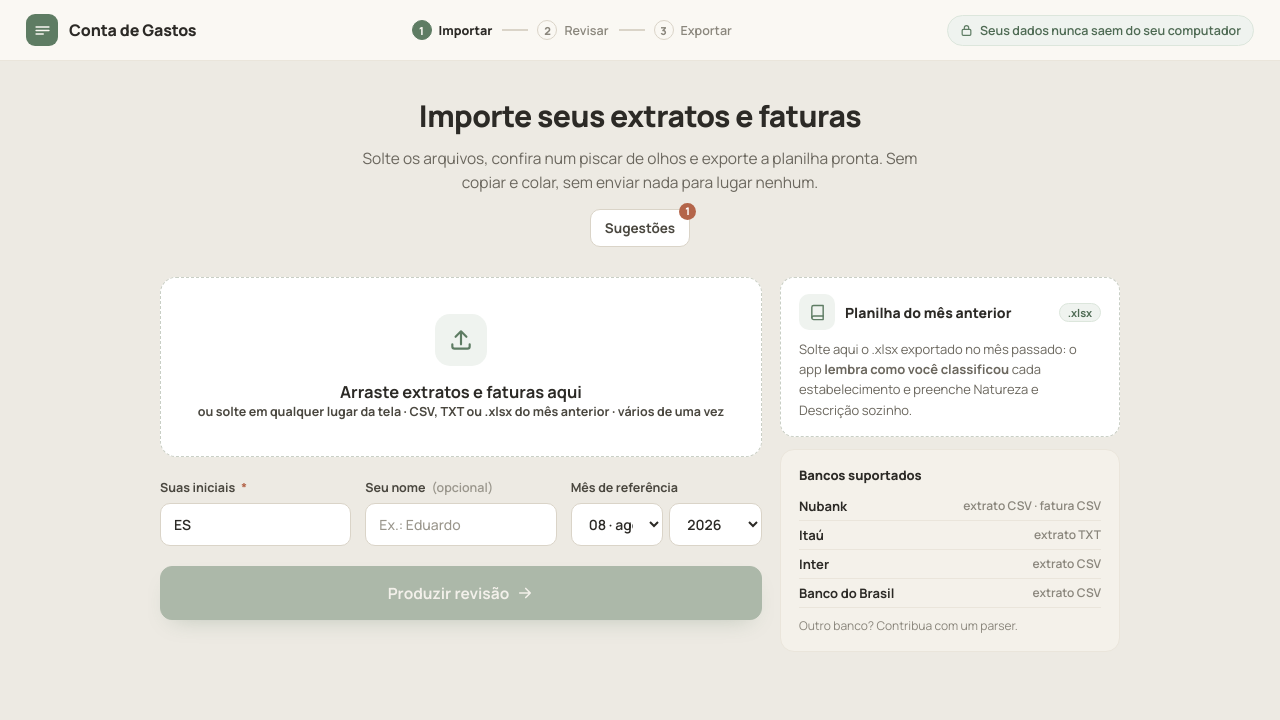
it: App — canal único de avisos: sheet nas 2 telas, footer aposentado (T9, D18) › CentralDeAvisos (sheet) é renderizado também na tela de importação (Etapa 1)
The width and height of the screenshot is (1280, 720).
Click the button "Sugestões 1".
click(640, 228)  # box [590,209,690,247]
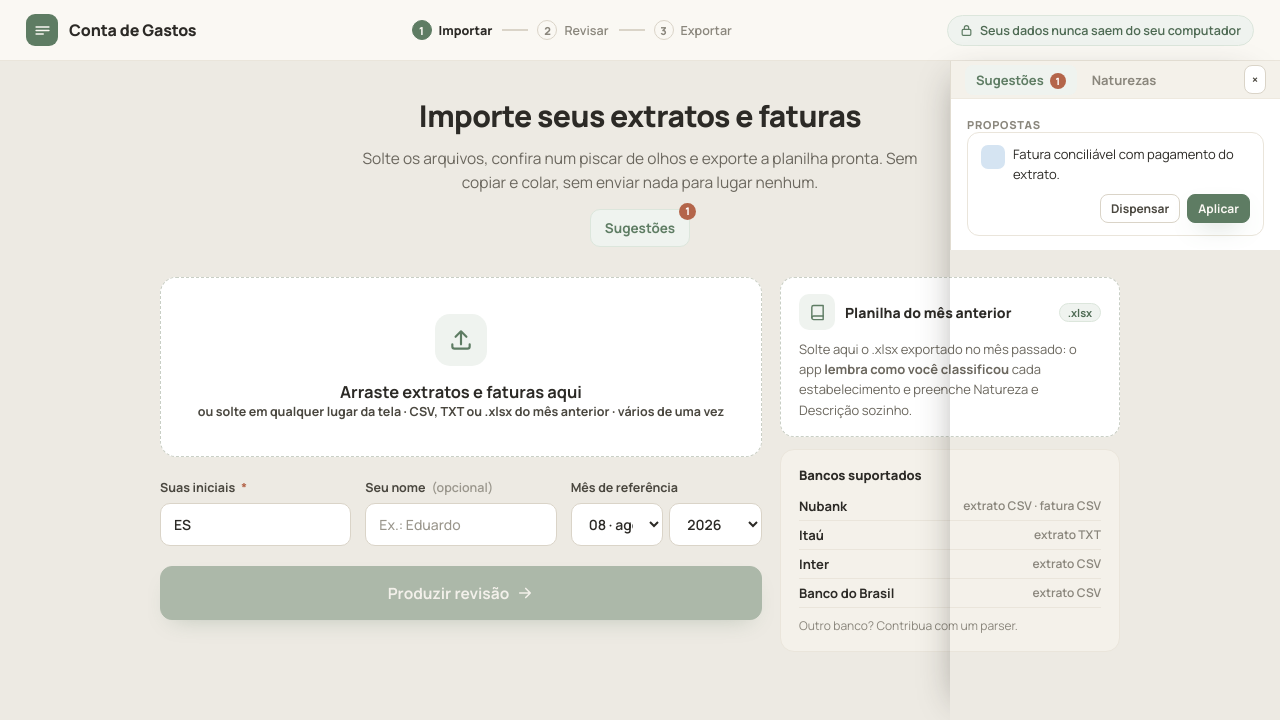
Expected: the text "Fatura conciliável com pagamento do extrato." is shown, [1013,145,1250,184]
